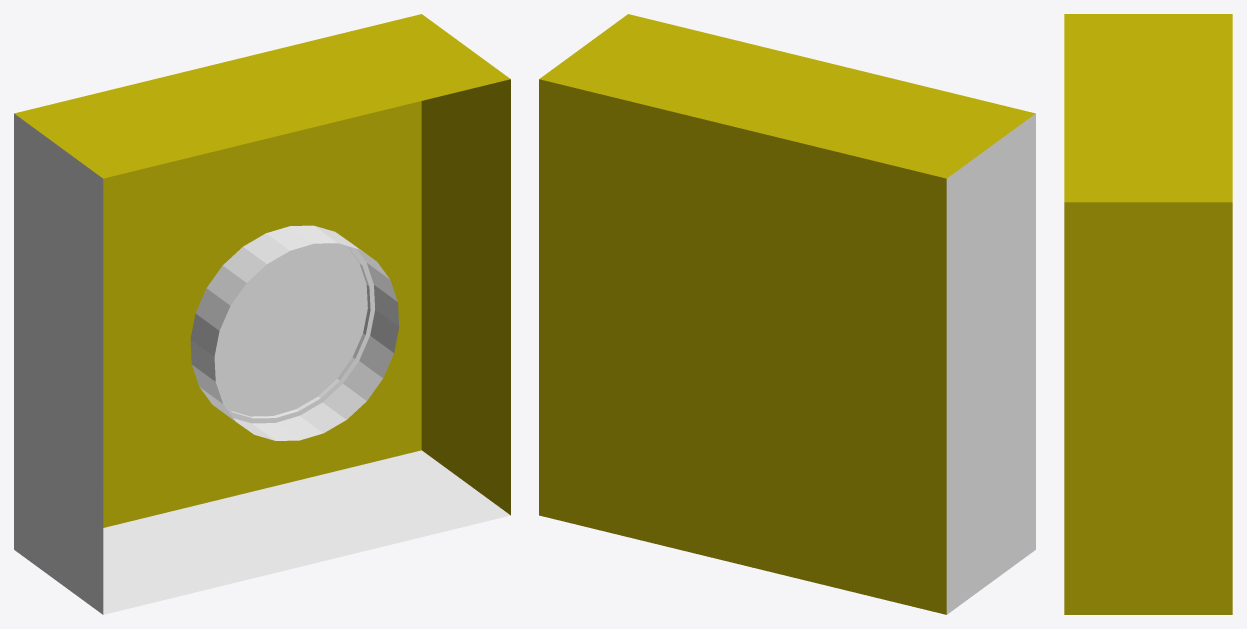
3 views of the same model, side by side, from view 1: azimuth 30°, elevation 25°; view 2: azimuth 150°, elevation 25°; view 3: azimuth 270°, elevation 25° (orthographic). The views are drawn at different scales.
Parts seen in each view (by area): view 1: Lego1x1_LightProbe_SKP_Material1, Lego1x1_LightProbe_SKP_Default_Material; view 2: Lego1x1_LightProbe_SKP_Material1, Lego1x1_LightProbe_SKP_Default_Material; view 3: Lego1x1_LightProbe_SKP_Material1.
Part boxes in pixels (x1,y1,x2,y2): Lego1x1_LightProbe_SKP_Material1: (14,14,510,527); Lego1x1_LightProbe_SKP_Default_Material: (14,113,510,614); Lego1x1_LightProbe_SKP_Material1: (539,14,1035,614); Lego1x1_LightProbe_SKP_Default_Material: (946,113,1035,614); Lego1x1_LightProbe_SKP_Material1: (1064,14,1232,614).
Bounding box in the file's own units: 0.88 × 0.9 × 0.333.
